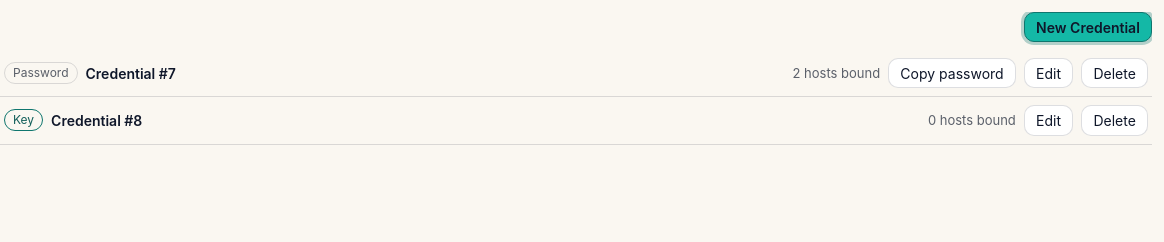
it: CredentialList 删除确认 › 确认框提示 N 台主机将解除绑定（从 hosts.credential_id 现算）
The width and height of the screenshot is (1164, 242).
Click the button with test id "cred-delete-7".
click(1115, 73)  # box [1081, 58, 1148, 88]
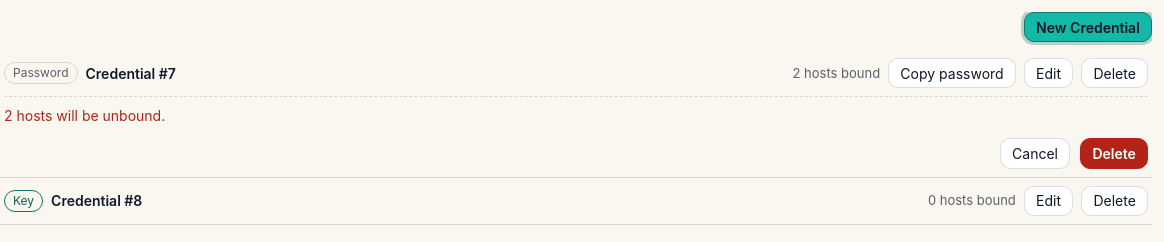
Now the text with test id "cred-confirm-text" reads "2 hosts will be unbound.", box [4, 107, 165, 124]
